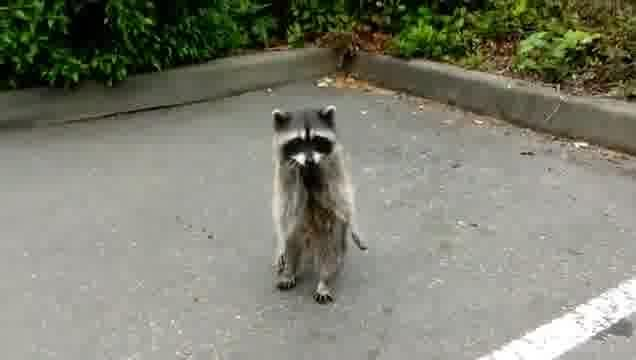raccoon: (270, 105, 369, 303)
